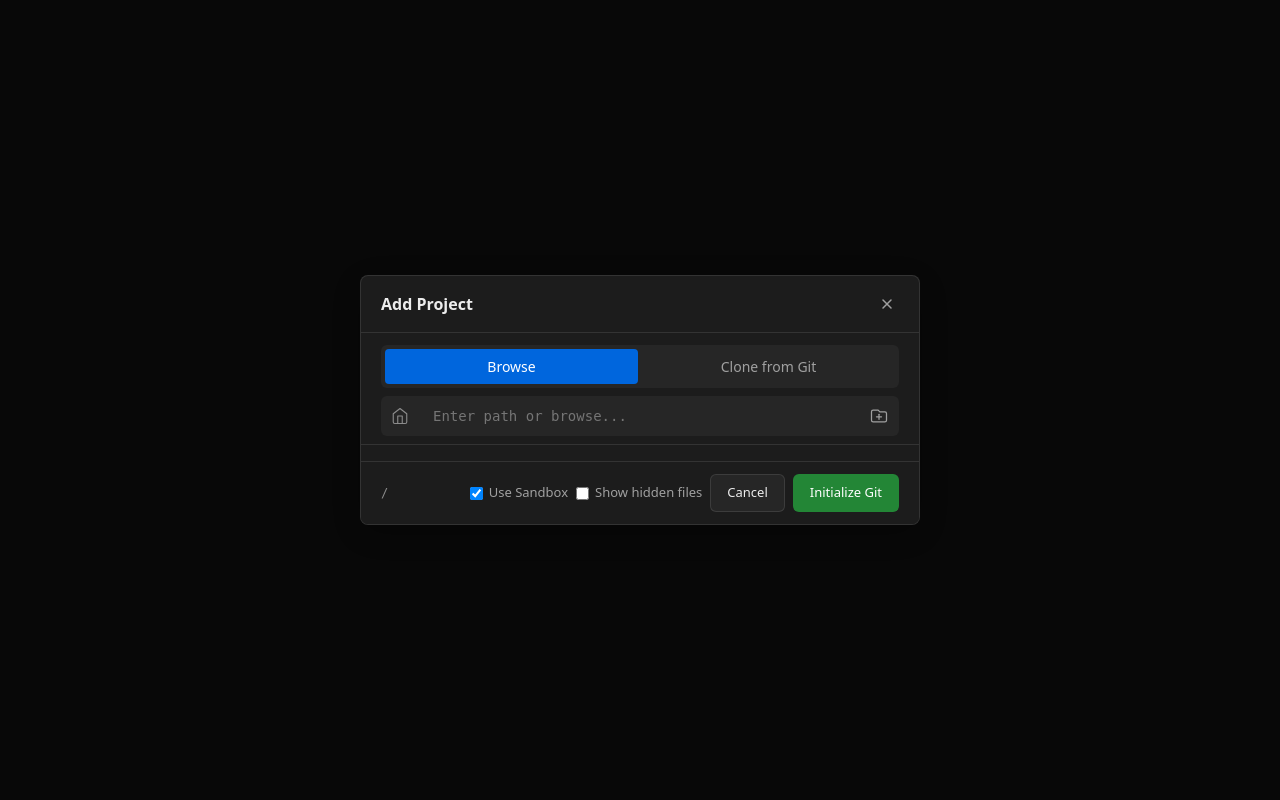
Test: FileBrowser — a stale directory listing must not win › keeps the directory the user asked for when the earlier reply arrives late
Type "/srv/slow-dir" into the field with placeholder "Enter path or browse..." at (639, 416), box [423, 400, 855, 432]
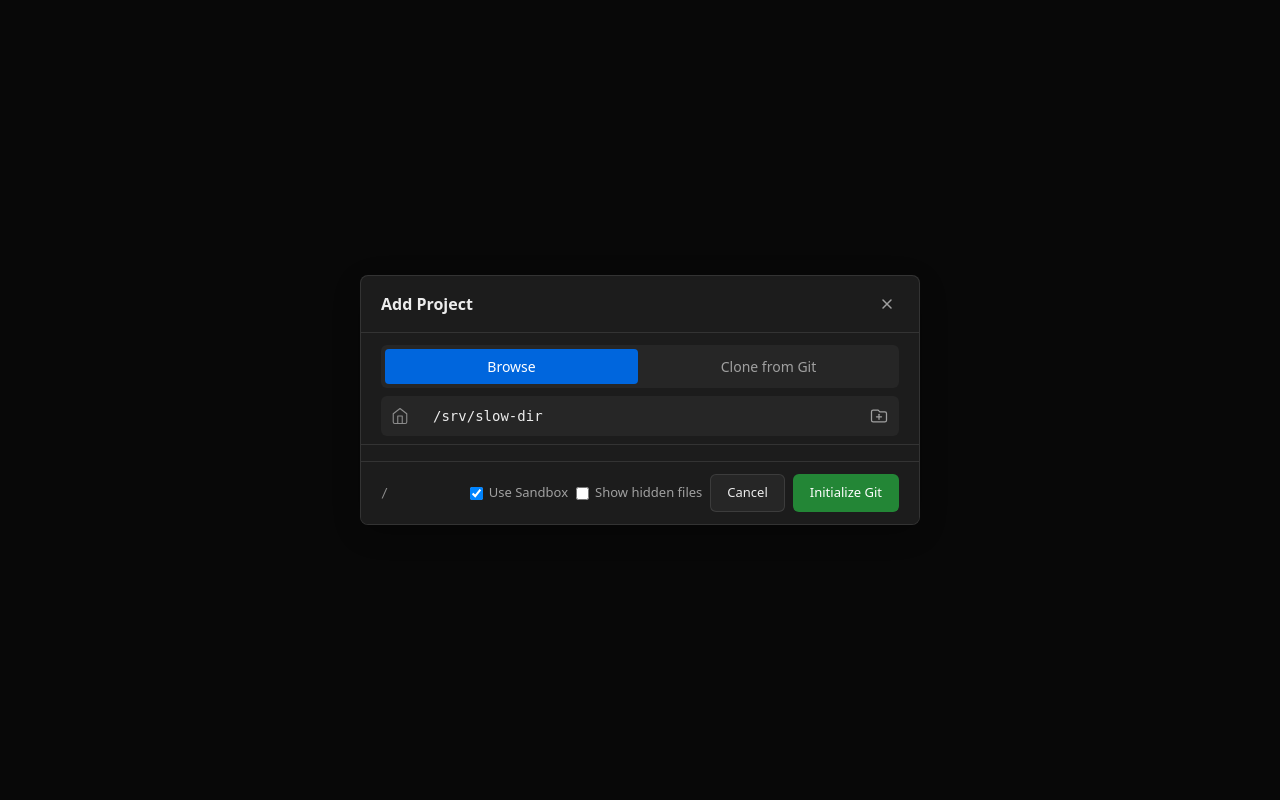
Press Enter in the field named "File path", box [423, 400, 855, 432]
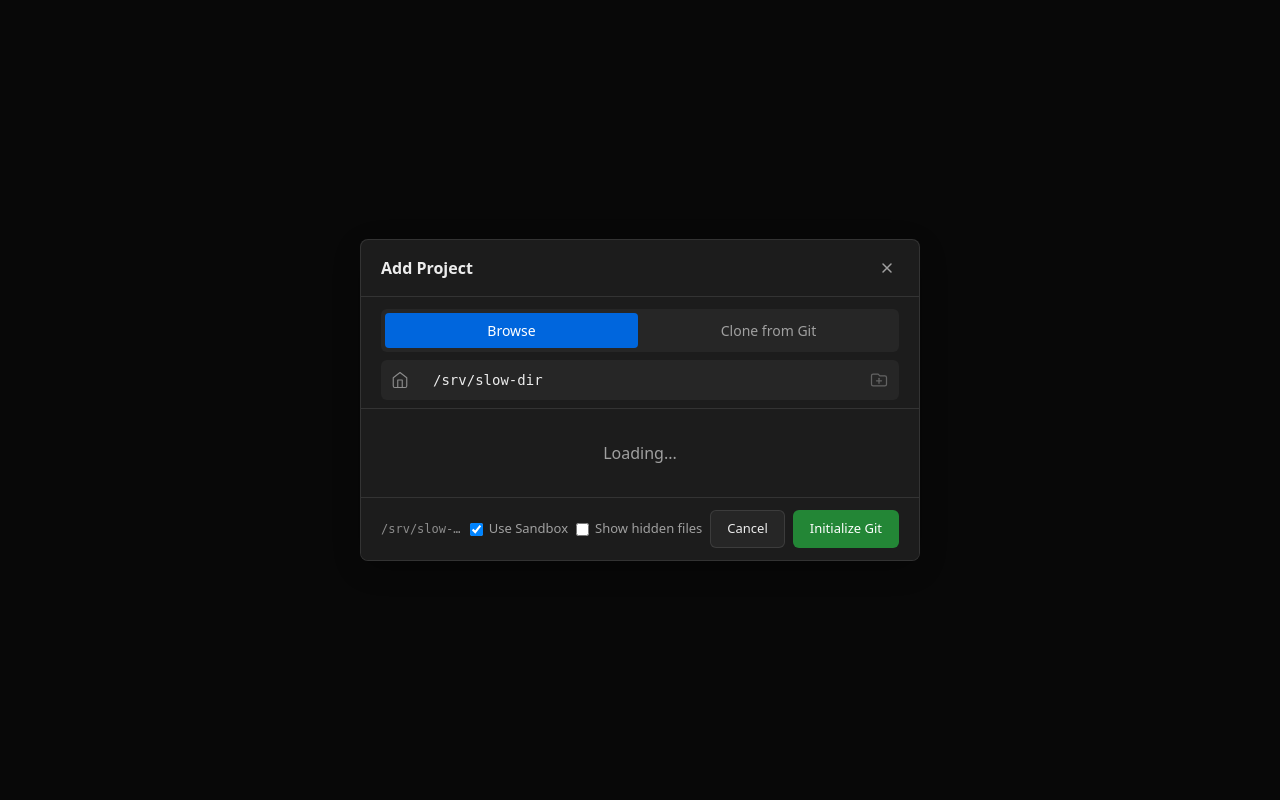
Replace the text in the field named "File path" with "/srv/git/project" at (639, 380), box [423, 364, 855, 396]
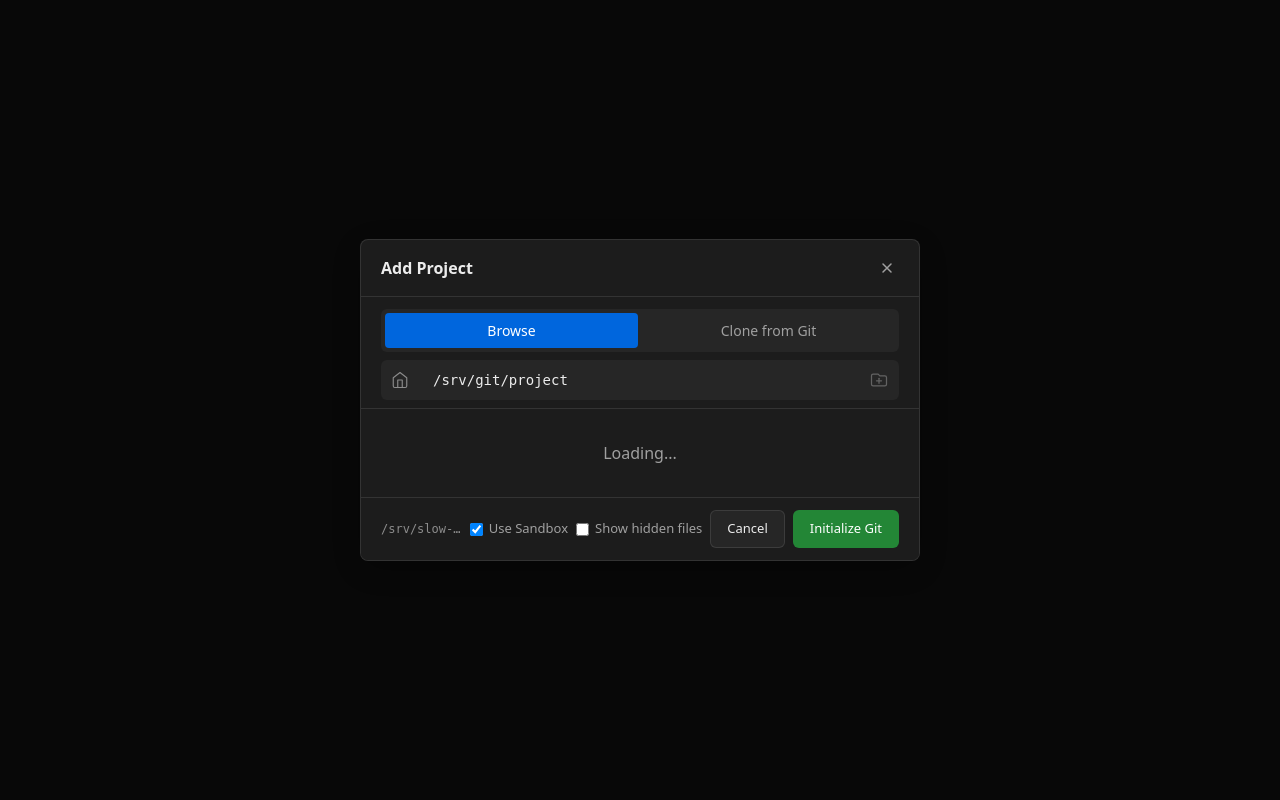
Press Enter in the field named "File path", box [423, 364, 855, 396]
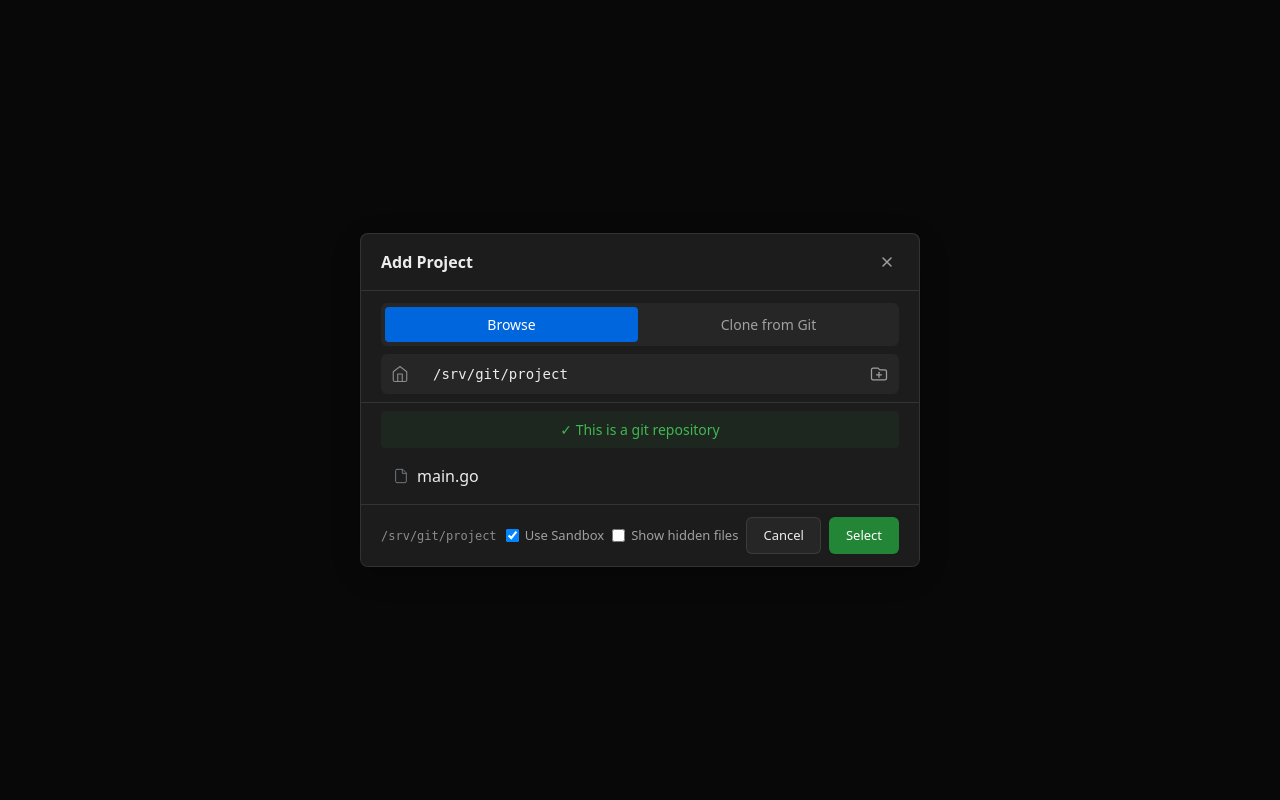
Expected: the text "✓ This is a git repository" is shown, [381, 411, 899, 448]
Expected: the text with class "current-path" reads "/srv/git/project", [381, 528, 497, 542]
